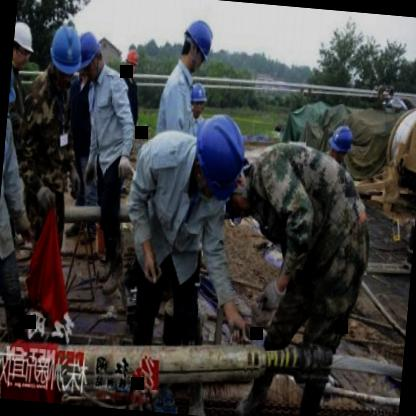helmet: (188, 110, 252, 206), (48, 18, 90, 86), (178, 14, 218, 76), (73, 29, 103, 83), (12, 15, 38, 70), (326, 124, 356, 165), (186, 80, 209, 118), (122, 45, 140, 77)
